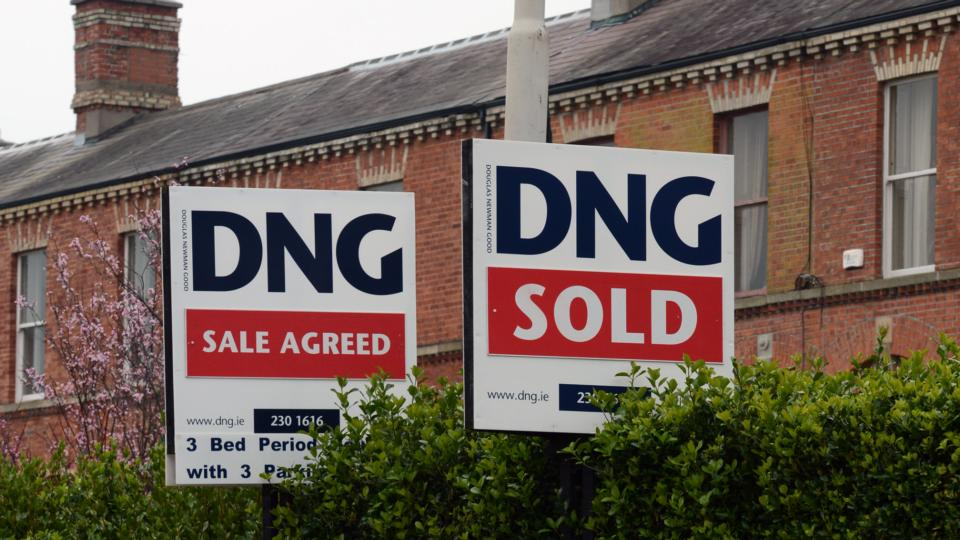property sign: (446, 128, 766, 451), (142, 162, 435, 496)
